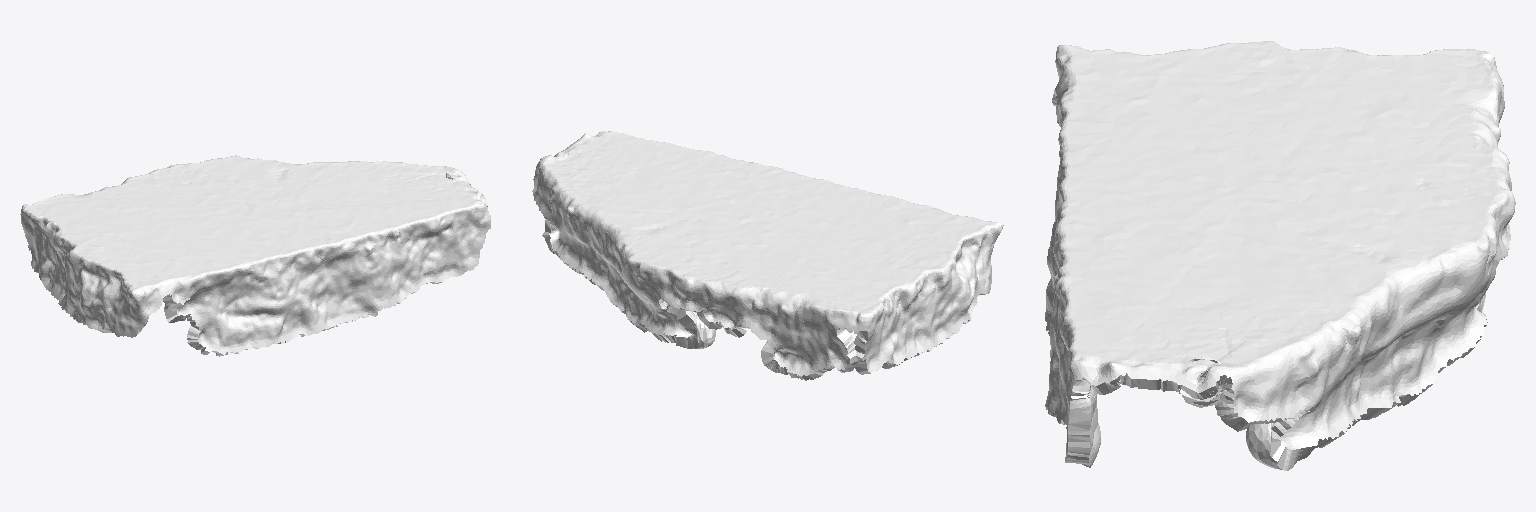
The robot description file, URDF, robot "frag6_top_calib_scaled":
<?xml version="1.0"?>
<robot name="frag6_top_calib_scaled">
  <material name="Blanc">
    <color rgba="1.0 1.0 1.0 1.0"/>
  </material>
  <link name="base_link">
    <visual>
      <origin xyz="0 0 0" rpy="0 0 0"/>
      <geometry>
        <mesh filename="frag6_small.stl"/>
      </geometry>
      <material name="Blanc"/>
    </visual>
    <collision>
      <origin xyz="0 0 0" rpy="0 0 0"/>
      <geometry>
	 	     <mesh filename="frag6_small.stl"/>
      </geometry>
    </collision>
    <contact>
      <lateral_friction value="2.0"/>
      <rolling_friction value="0.0001"/>
      <inertia_scaling value="3.0"/>
    </contact>
    <inertial>
      <origin rpy="0 0 0" xyz="0 0 0"/>
       <mass value="0.05"/>
       <inertia ixx="1" ixy="0" ixz="0" iyy="1" iyz="0" izz="1"/>
    </inertial>
  </link>

</robot>

--- Render facts (derived) ---
Views: 3 orthographic renders of the robot side by side, from view 1: azimuth 30°, elevation 25°; view 2: azimuth 150°, elevation 25°; view 3: azimuth 270°, elevation 25°.
Robot: frag6_top_calib_scaled — 1 links, 0 joints (none); root link base_link; default pose: every joint at zero.
Visible links, largest first — view 1: base_link; view 2: base_link; view 3: base_link.
Link boxes in pixels (x1,y1,x2,y2): base_link: [20, 155, 490, 356]; base_link: [532, 131, 1003, 380]; base_link: [1045, 41, 1515, 470].
Size in the robot's own frame: 0.1105 by 0.0638 by 0.0253 metres.
1 mesh visuals loaded from 1 distinct referenced files (1 binary STL).
